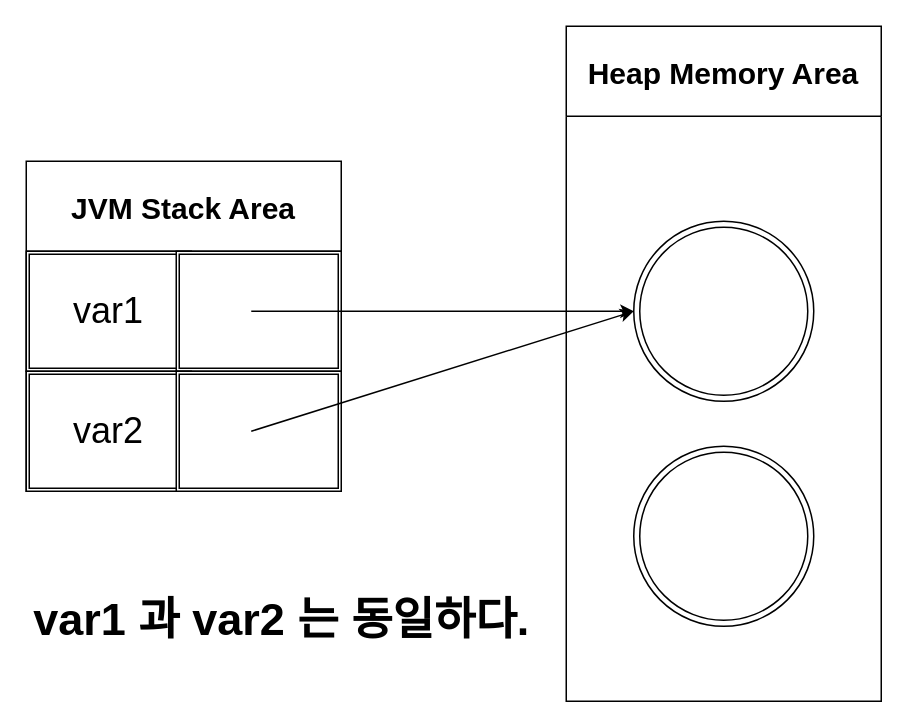
Some shapes in this 908 by 728 pixel diagram are drawn without their labels. The shapes that lost their labels are listed below. From the top down, each one's centre as x and y in pixels, then its label:
At (x=723, y=310): "객체 1".
At (x=723, y=535): "객체 2".
